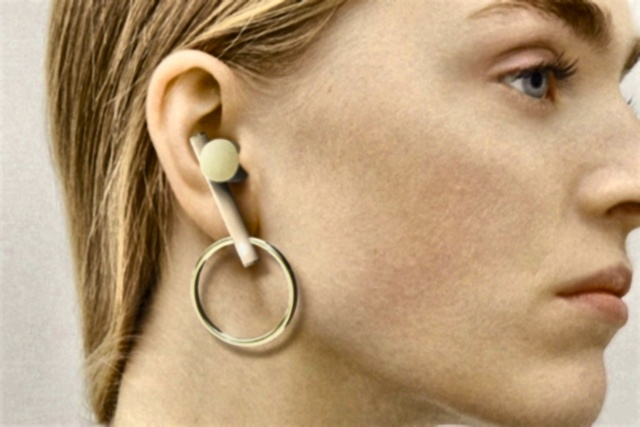earphone: (146, 50, 261, 250)
